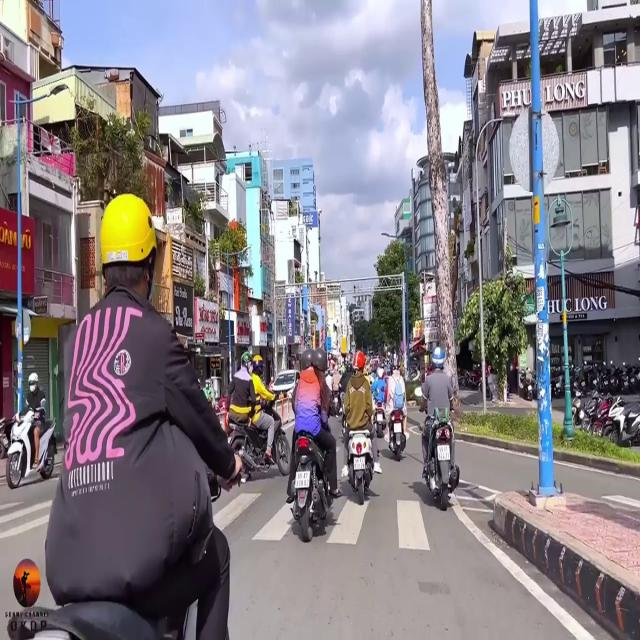bien_trang: (291, 464, 310, 494)
